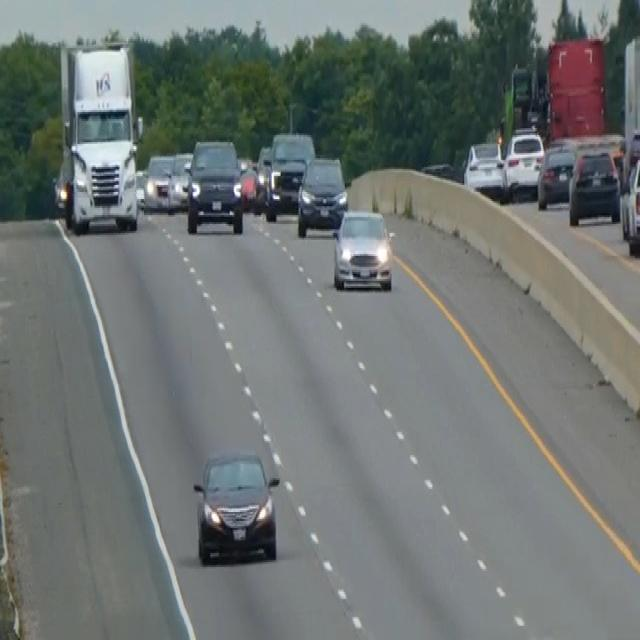car: (191, 448, 280, 565), (185, 137, 244, 235), (332, 206, 393, 292), (265, 128, 315, 219), (296, 153, 348, 236), (567, 146, 620, 226), (536, 140, 577, 210), (462, 137, 506, 201), (503, 128, 544, 196), (619, 154, 639, 252), (143, 151, 174, 210), (167, 150, 192, 212), (237, 154, 259, 212), (255, 144, 272, 206)
lorry: (53, 39, 144, 233)
